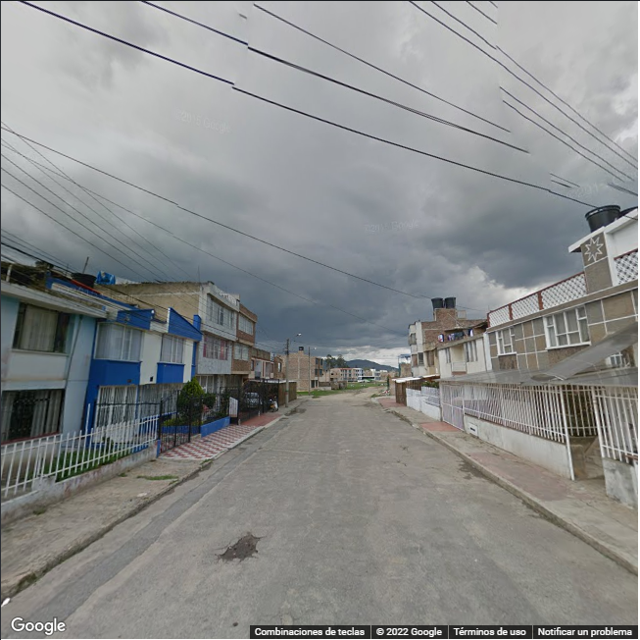D00: (277, 585, 287, 626)
D40: (221, 527, 256, 567)
